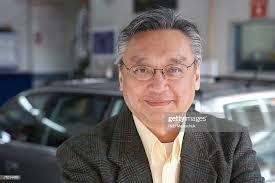Glasses: (121, 64, 207, 82)
